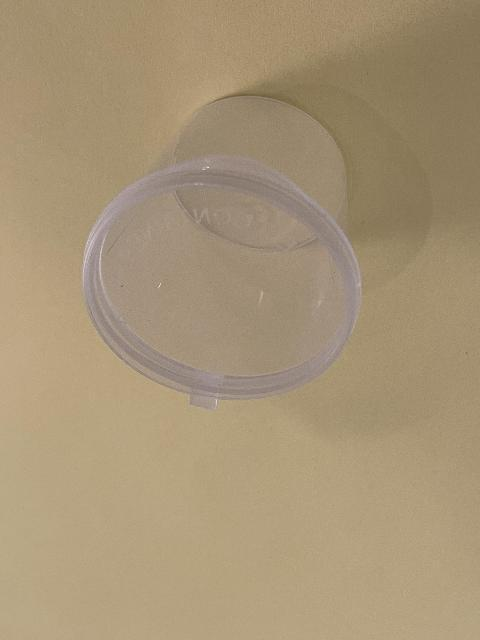plasticcontainer: (81, 92, 365, 414)
